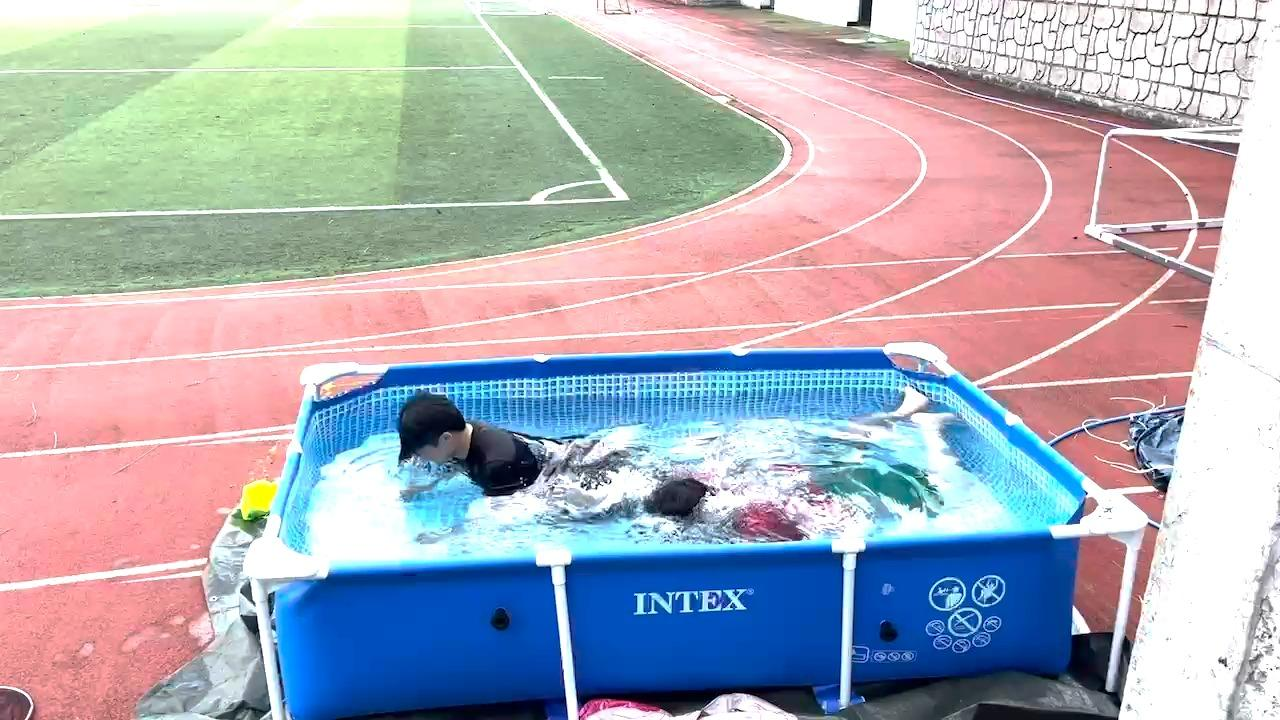Drowning: (636, 431, 966, 575), (378, 383, 609, 532)
